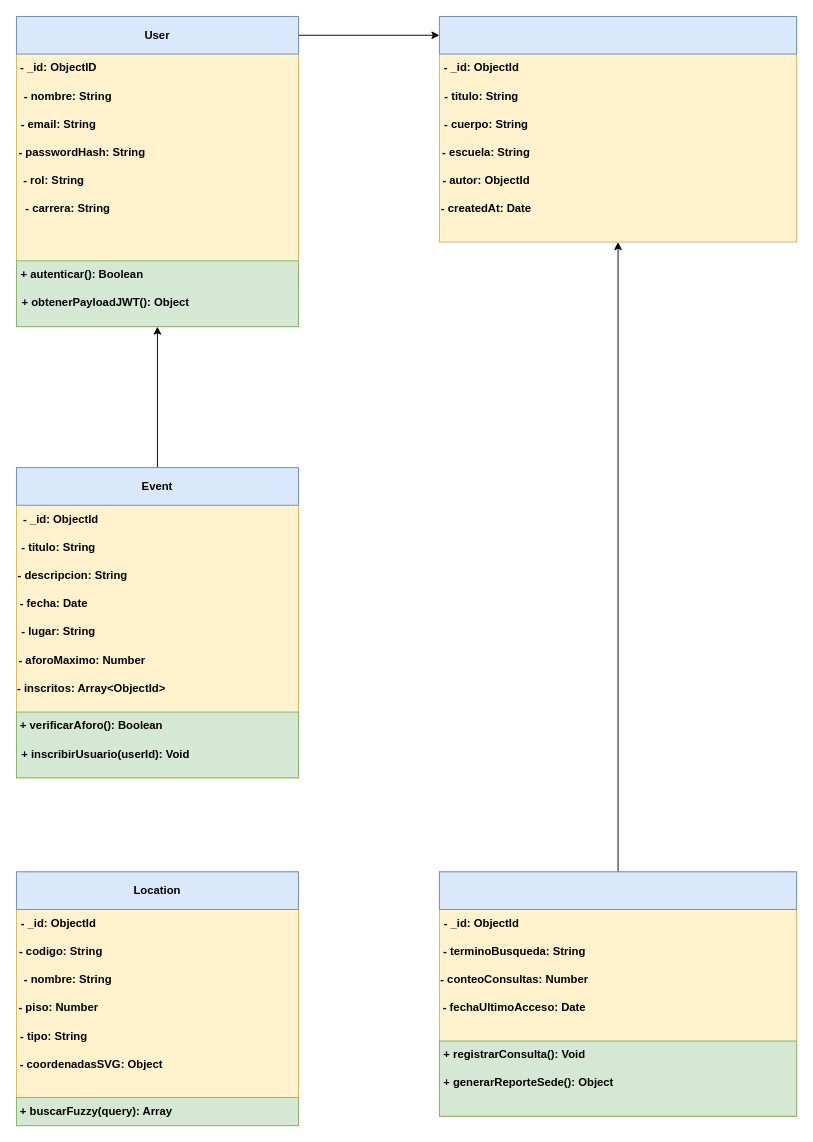
Some shapes in this 813 by 1142 pixel diagram are drawn without their labels. Here are the shapes that lost their labels. From the top down, the box of each, then its label:
(439, 16, 797, 54): News
(439, 871, 797, 909): Analytics
